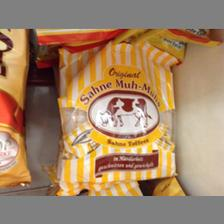Suessigkeit: (57, 49, 177, 191)
